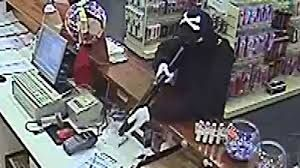gun: (107, 47, 192, 134)
